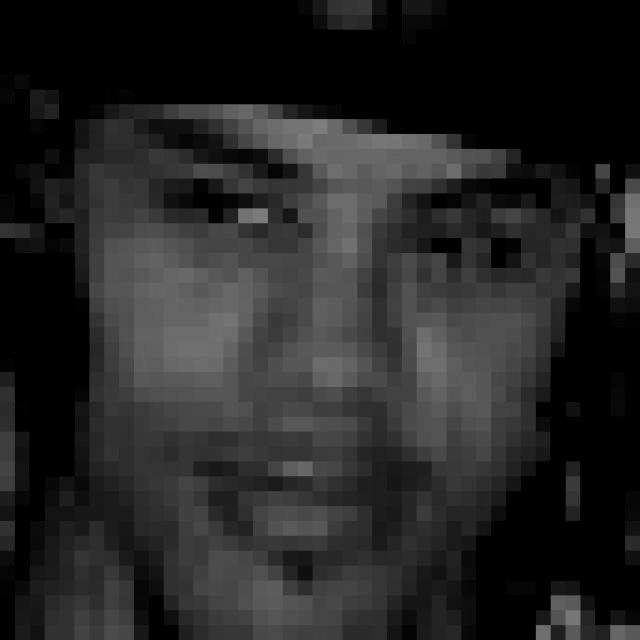real: (76, 12, 538, 628), (156, 132, 540, 288)
